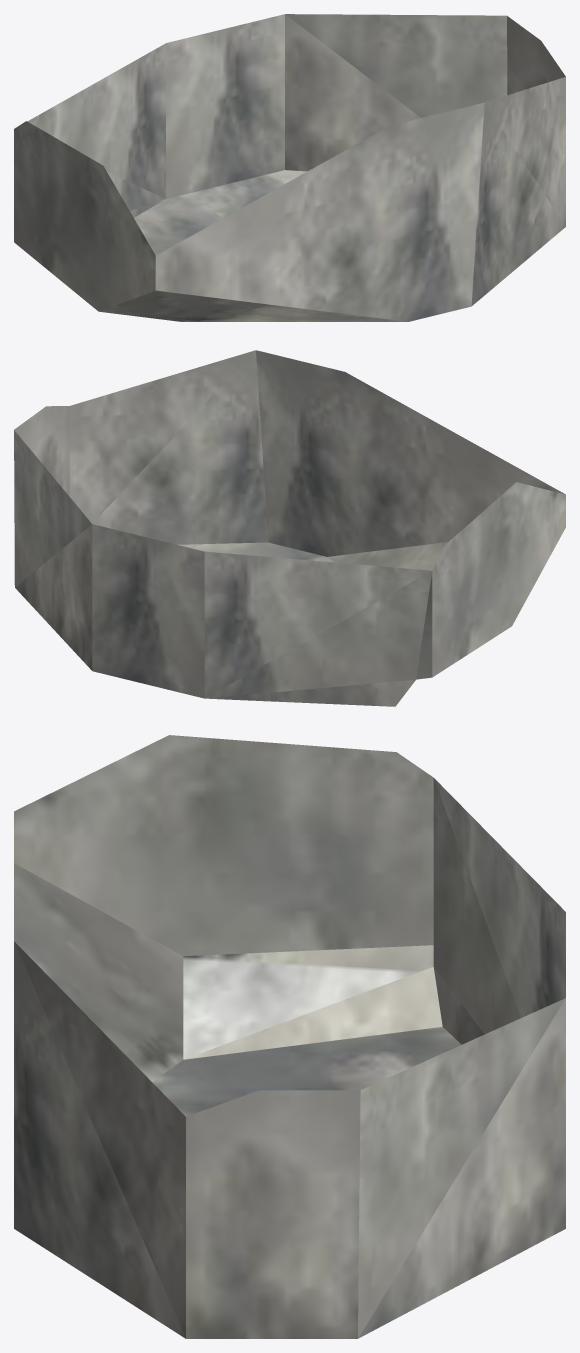
File: SimLab_skp.obj
3 renders of one model, top to bottom at view 1: azimuth 30°, elevation 25°; view 2: azimuth 150°, elevation 25°; view 3: azimuth 270°, elevation 25°, orthographic. The views are drawn at different scales.
Parts seen in each view (by area): view 1: Mesh1 Model; view 2: Mesh1 Model; view 3: Mesh1 Model.
Part boxes in pixels (<box>): Mesh1 Model: <box>14,14,565,321</box>; Mesh1 Model: <box>14,350,565,706</box>; Mesh1 Model: <box>14,735,565,1338</box>.
Bounding box in the file's own units: 2.42 × 0.99 × 1.67.
1 material, 1 textured.
